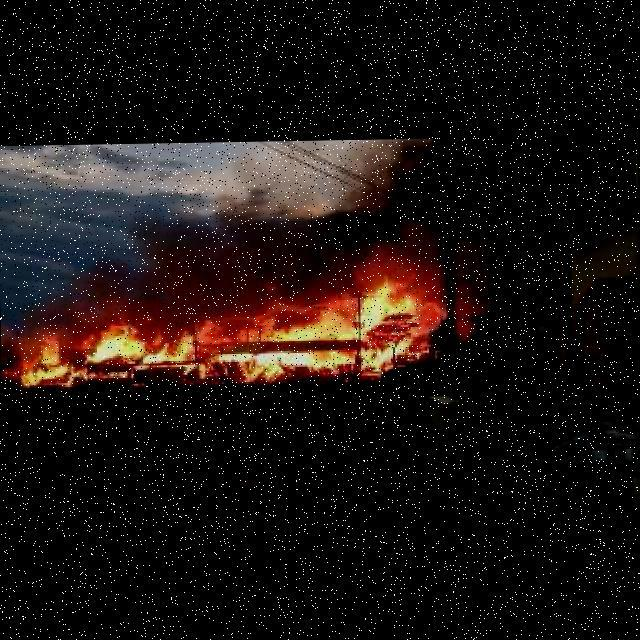Fire: (1, 277, 429, 386)
Smoke: (74, 198, 358, 317)
